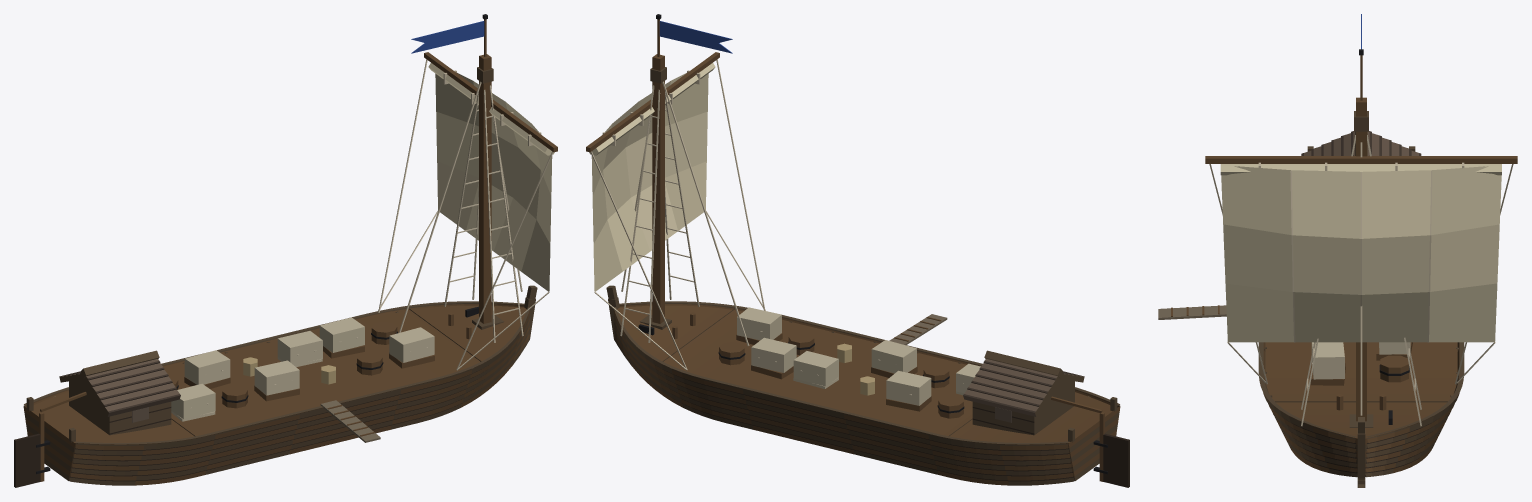
Rendered from wasser_niederlaender.glb.
3 views of the same model, side by side, from view 1: azimuth 30°, elevation 25°; view 2: azimuth 150°, elevation 25°; view 3: azimuth 270°, elevation 25° (orthographic). The views are drawn at different scales.
Visible parts, largest first — view 1: Schiff, Verdraenger, Segel_Gesetzt, Mast, Takelage, Ladung_15, Ladung_3, Ladung_12, Ladung_6, Ladung_9, Fahne, Ladung_18 (+2 smaller); view 2: Schiff, Verdraenger, Segel_Gesetzt, Mast, Takelage, Ladung_9, Ladung_15, Ladung_6, Ladung_12, Fahne, Ladung_3, Segel_Gerefft (+1 smaller); view 3: Segel_Gesetzt, Verdraenger, Schiff, Mast, Segel_Gerefft, Takelage, Ladung_3, Laufplanke, Ladung_2.
Boxes of the visible parts, box(x1,y1,x2,y2) form: Schiff: box(14, 285, 537, 487); Verdraenger: box(31, 305, 526, 478); Segel_Gesetzt: box(378, 73, 552, 369); Mast: box(424, 52, 557, 322); Takelage: box(378, 59, 553, 370); Ladung_15: box(184, 350, 230, 384); Ladung_3: box(389, 327, 434, 362); Ladung_12: box(254, 360, 299, 395); Ladung_6: box(319, 317, 364, 352); Ladung_9: box(277, 331, 322, 365); Fahne: box(411, 14, 487, 56); Ladung_18: box(171, 383, 215, 419); Schiff: box(606, 285, 1129, 487); Verdraenger: box(617, 305, 1112, 478); Segel_Gesetzt: box(591, 73, 765, 369); Mast: box(586, 52, 719, 322); Takelage: box(590, 59, 765, 370); Ladung_9: box(793, 351, 838, 386); Ladung_15: box(886, 370, 931, 405); Ladung_6: box(751, 337, 796, 372); Ladung_12: box(871, 340, 916, 373); Fahne: box(656, 14, 732, 56); Ladung_3: box(737, 307, 781, 340); Segel_Gerefft: box(589, 63, 715, 155); Segel_Gesetzt: box(1221, 166, 1501, 383); Verdraenger: box(1265, 342, 1457, 474); Schiff: box(1258, 131, 1464, 478); Mast: box(1205, 97, 1517, 419); Segel_Gerefft: box(1220, 162, 1501, 175); Takelage: box(1209, 135, 1513, 426); Ladung_3: box(1311, 342, 1344, 379); Laufplanke: box(1158, 305, 1226, 319); Ladung_2: box(1379, 355, 1409, 382).
Size of the model in its own units: 18.56 by 12.41 by 9.2.
